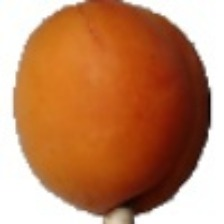apricot: (1, 51, 186, 208)
